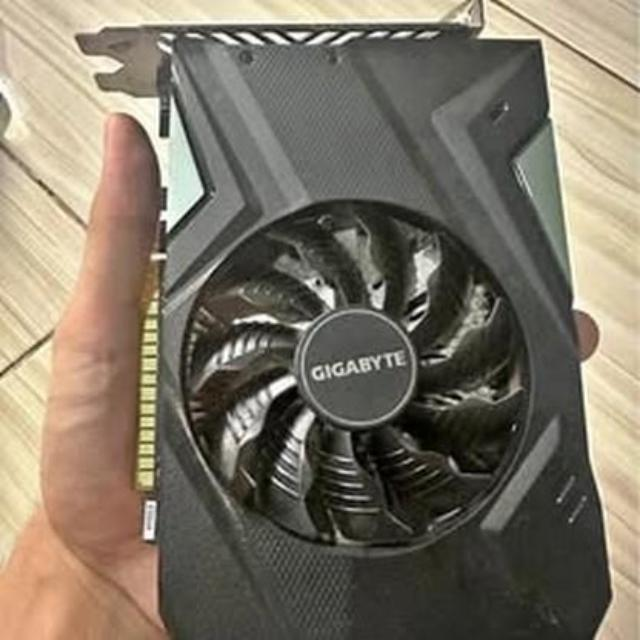GPU: (133, 9, 615, 640)
